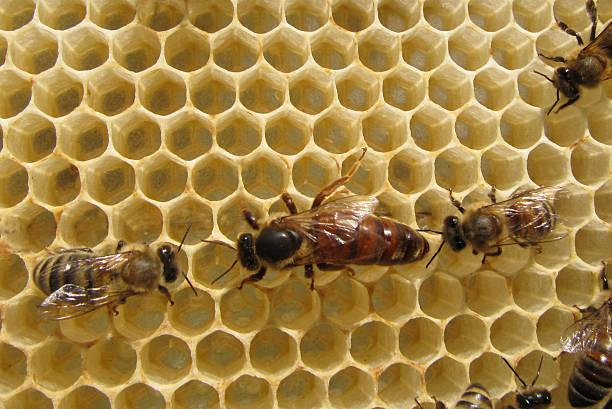Queen-Bee: (234, 163, 428, 288)
worker-bee: (33, 229, 188, 319), (431, 186, 565, 263), (451, 232, 452, 232)
